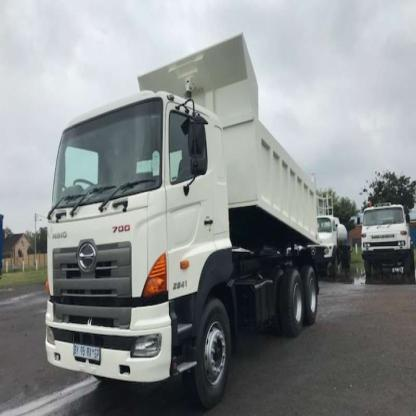dump_truck: (34, 17, 327, 406)
